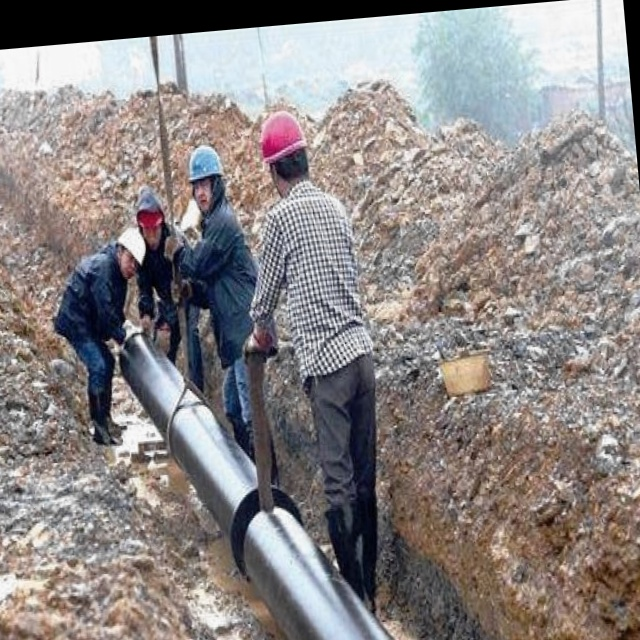Con_Casco: (259, 107, 310, 192), (185, 141, 226, 209)
